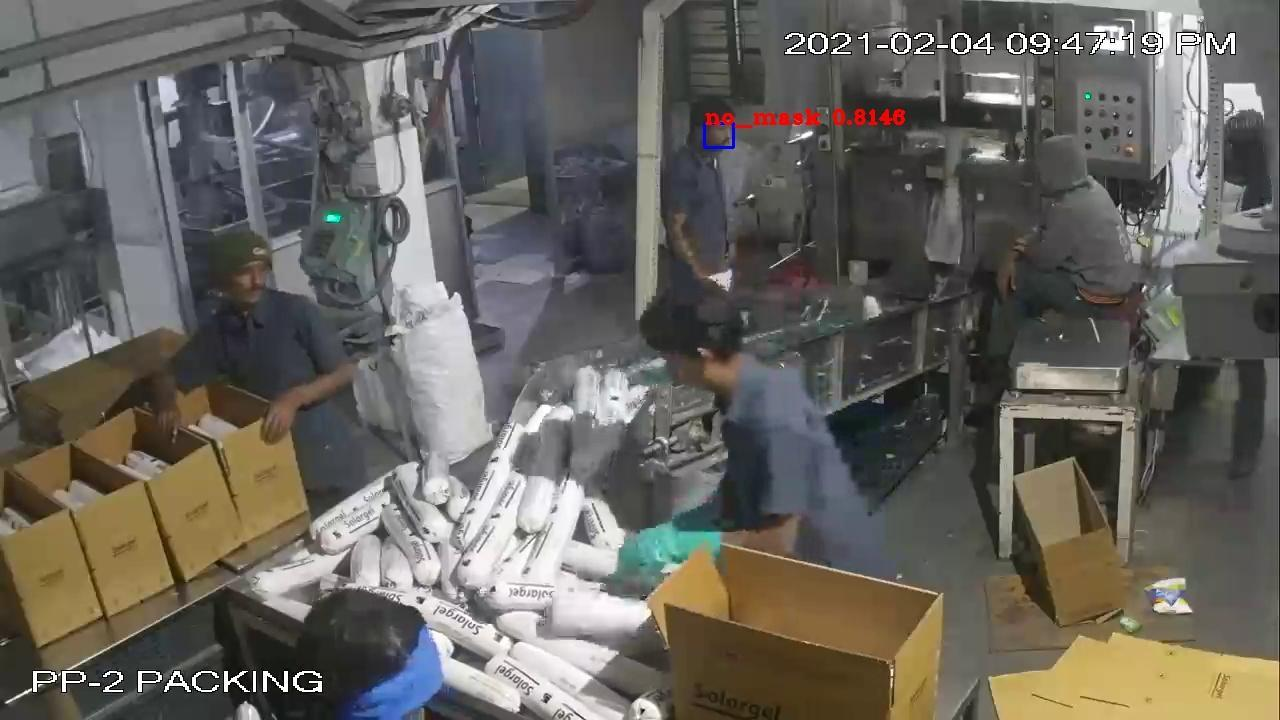Gloves: (601, 513, 742, 589)
No-gloves: (642, 199, 733, 298), (260, 358, 364, 443), (136, 351, 196, 455), (983, 238, 1033, 312)
